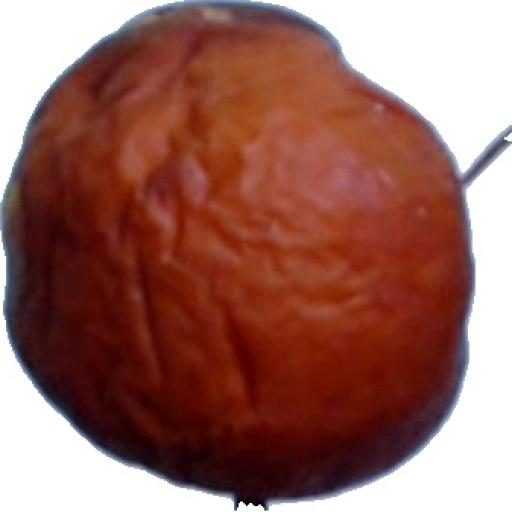apple-overripe: (0, 2, 512, 512)
